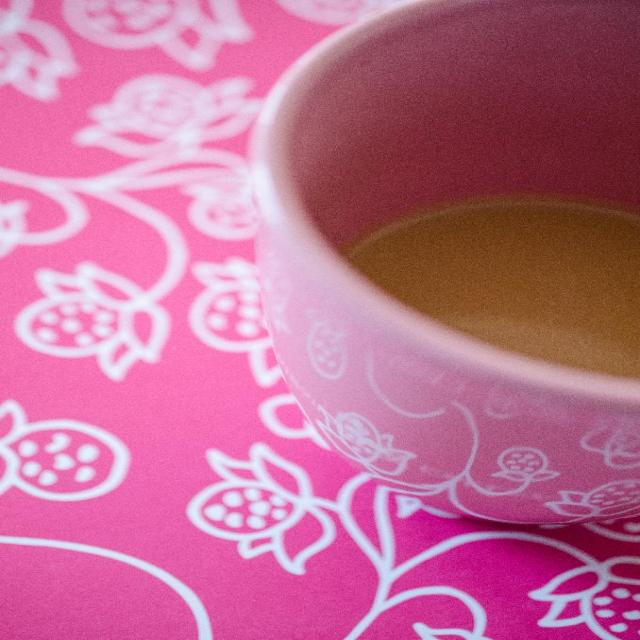Tea: (244, 0, 639, 559), (346, 206, 639, 382)
